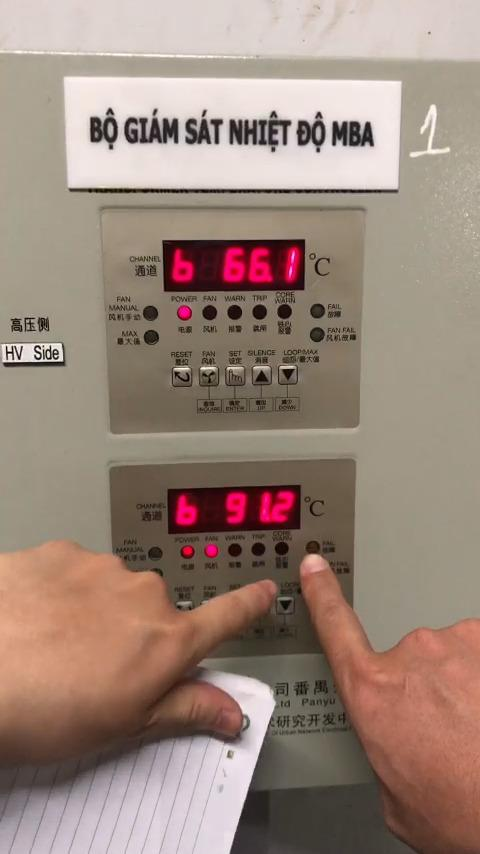led: (309, 303, 326, 320), (143, 330, 160, 346), (204, 543, 220, 560), (176, 306, 194, 321), (277, 304, 293, 320), (142, 305, 158, 321), (251, 542, 267, 558), (202, 306, 219, 321), (253, 304, 268, 320), (227, 305, 243, 320), (310, 327, 325, 343), (274, 542, 290, 557), (180, 544, 195, 560), (148, 546, 164, 561), (228, 543, 243, 558), (306, 541, 322, 555)
